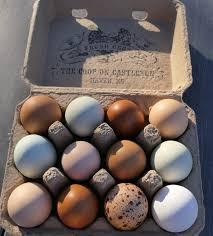egg: (6, 176, 56, 231), (152, 183, 201, 232), (54, 181, 102, 230), (105, 178, 151, 229), (147, 96, 192, 142), (12, 134, 56, 178), (59, 138, 102, 182), (64, 92, 106, 134), (18, 92, 62, 132), (106, 136, 146, 178), (106, 95, 146, 136), (152, 140, 192, 180)
